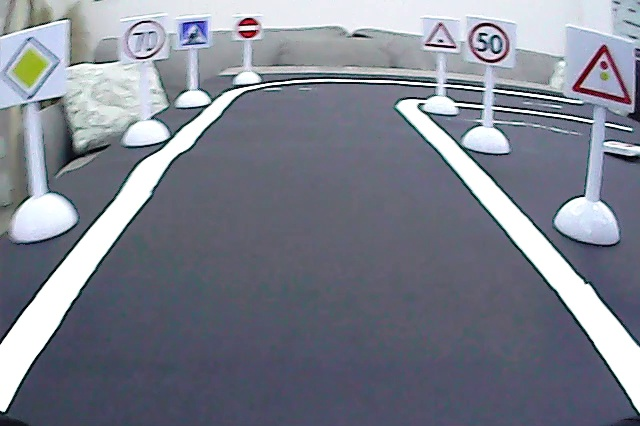do not enter: (236, 16, 261, 39)
green light: (422, 21, 459, 51)
red light: (568, 39, 634, 109)
speed limit 50: (465, 19, 513, 66)
speed limit 70: (120, 18, 168, 62)
